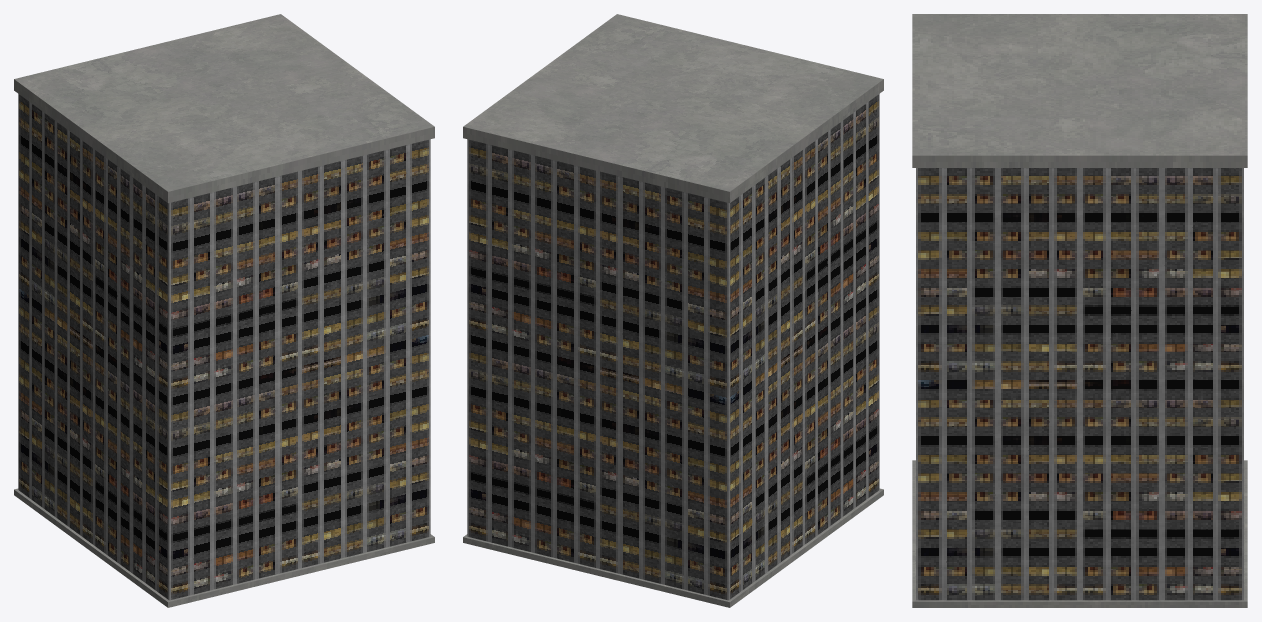
Rendered from building_01.3.glb.
The picture shows the model from 3 angles, left to right: view 1: azimuth 30°, elevation 25°; view 2: azimuth 150°, elevation 25°; view 3: azimuth 270°, elevation 25°; orthographic projection. The views are drawn at different scales.
Parts seen in each view (by area): view 1: building_01_32; view 2: building_01_32; view 3: building_01_32.
Boxes of the visible parts, x1=… form: building_01_32: x1=14, y1=14, x2=434, y2=607; building_01_32: x1=463, y1=14, x2=883, y2=607; building_01_32: x1=912, y1=14, x2=1247, y2=607.
Bounding box in the file's own units: 49 × 73 × 49.
1 material, 1 textured.
